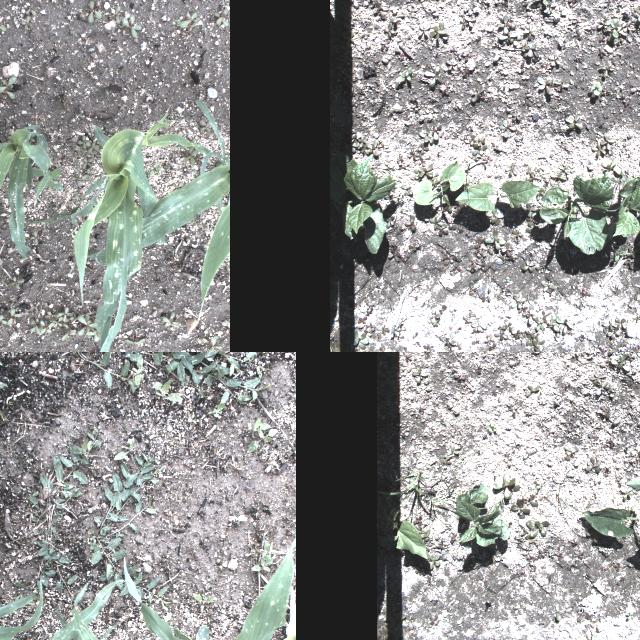crop: (17, 106, 218, 352), (64, 99, 230, 323), (122, 537, 295, 640), (57, 580, 215, 640), (0, 579, 123, 640), (0, 124, 50, 259), (538, 174, 614, 253), (342, 152, 396, 254), (454, 484, 510, 548), (580, 507, 640, 556), (0, 579, 43, 640), (456, 180, 538, 210), (384, 506, 426, 560), (414, 163, 464, 207), (609, 171, 640, 241), (602, 158, 624, 178)
weed: (13, 426, 102, 604), (86, 452, 172, 608), (90, 352, 272, 405), (77, 352, 141, 392), (0, 124, 23, 198), (387, 468, 428, 500), (166, 146, 197, 176), (494, 470, 520, 504), (28, 168, 64, 192), (152, 378, 182, 404), (248, 428, 278, 454), (416, 552, 446, 576), (520, 520, 550, 540), (120, 14, 142, 38), (78, 313, 102, 335), (113, 436, 135, 460), (609, 352, 630, 375), (180, 12, 200, 36), (608, 18, 628, 42), (254, 542, 284, 558), (508, 499, 532, 519), (252, 554, 274, 574), (428, 492, 448, 514), (132, 354, 144, 388), (561, 445, 581, 465), (588, 373, 606, 395), (0, 76, 17, 99), (86, 0, 102, 24), (85, 324, 105, 342), (484, 230, 504, 248), (423, 66, 439, 88), (409, 366, 428, 384), (202, 335, 222, 352), (248, 418, 272, 432), (485, 208, 503, 226), (498, 120, 516, 138), (556, 318, 574, 336), (6, 307, 22, 327), (498, 14, 514, 34), (522, 38, 538, 58), (586, 454, 602, 474), (416, 526, 432, 546), (429, 21, 446, 39), (55, 306, 73, 322), (162, 310, 180, 326), (394, 66, 412, 82), (536, 77, 552, 95), (448, 370, 472, 382), (564, 114, 584, 128), (72, 440, 92, 454), (208, 402, 225, 418), (62, 322, 76, 341), (183, 150, 199, 166), (76, 133, 92, 149), (388, 6, 404, 22), (440, 332, 456, 348), (469, 255, 485, 271), (598, 402, 614, 418), (617, 486, 633, 502), (353, 332, 367, 350), (525, 384, 543, 398), (530, 492, 544, 510), (446, 529, 458, 549), (192, 594, 215, 604), (148, 162, 164, 176), (28, 230, 42, 246), (40, 320, 54, 336), (600, 134, 614, 150), (526, 550, 540, 566), (125, 337, 145, 348), (404, 214, 416, 232), (524, 306, 536, 324), (607, 431, 619, 449), (586, 628, 604, 640), (483, 422, 502, 433), (21, 16, 34, 32), (428, 217, 444, 230), (214, 12, 228, 26), (86, 140, 100, 154), (81, 168, 95, 182), (528, 171, 542, 185), (512, 294, 526, 308), (572, 548, 586, 562), (216, 8, 228, 24), (80, 236, 96, 248), (471, 319, 487, 331), (542, 280, 558, 292), (590, 80, 602, 96), (600, 62, 612, 78), (524, 24, 536, 40), (366, 140, 378, 156), (388, 246, 400, 262), (420, 126, 432, 142), (418, 164, 434, 176), (200, 119, 212, 133), (190, 138, 202, 152), (10, 276, 24, 288), (435, 304, 447, 318), (471, 88, 483, 102), (534, 316, 546, 330), (418, 24, 432, 36), (544, 0, 556, 14), (592, 144, 606, 156), (522, 260, 536, 272), (462, 310, 476, 322), (523, 204, 537, 216), (526, 212, 538, 226), (112, 5, 120, 25), (30, 318, 40, 334), (374, 3, 384, 19), (432, 124, 442, 140), (472, 145, 488, 155), (548, 315, 558, 331), (504, 451, 514, 467), (501, 242, 512, 256), (172, 181, 184, 193), (82, 157, 94, 169), (621, 20, 633, 32), (464, 16, 476, 28), (548, 54, 560, 66), (417, 143, 429, 155), (481, 244, 493, 256), (556, 600, 562, 624), (626, 609, 638, 621), (611, 562, 623, 574), (44, 311, 58, 321), (604, 319, 618, 329), (384, 24, 394, 38), (494, 330, 508, 340), (633, 2, 640, 21), (407, 6, 418, 18), (401, 183, 412, 195), (52, 316, 62, 329), (506, 162, 516, 175), (406, 150, 419, 160), (376, 325, 389, 335), (554, 80, 570, 88), (551, 172, 567, 180), (533, 0, 554, 6), (26, 4, 36, 16), (107, 26, 117, 38), (358, 136, 368, 148), (498, 34, 518, 40), (509, 36, 521, 46), (385, 216, 395, 228), (438, 225, 448, 237), (446, 218, 456, 230), (608, 328, 620, 338), (550, 293, 562, 303), (526, 340, 546, 346), (614, 251, 626, 261), (524, 449, 536, 459), (502, 322, 512, 333), (616, 318, 626, 329), (27, 596, 38, 606), (0, 18, 6, 35), (74, 188, 84, 198), (152, 306, 162, 316), (444, 254, 454, 264), (469, 282, 479, 292), (626, 247, 636, 257), (187, 415, 197, 425), (531, 338, 538, 352), (199, 224, 211, 232), (598, 20, 610, 28), (460, 18, 468, 30), (362, 328, 373, 336), (72, 175, 82, 183), (69, 312, 79, 320), (477, 136, 485, 146), (512, 230, 522, 238), (396, 325, 406, 333), (500, 256, 510, 264), (493, 324, 503, 332), (526, 331, 536, 339), (559, 166, 569, 174), (0, 314, 7, 325), (487, 284, 491, 302), (469, 154, 481, 160), (358, 316, 367, 324), (538, 188, 544, 200), (414, 169, 421, 179), (469, 135, 476, 145), (76, 166, 82, 177), (522, 40, 528, 51), (44, 468, 50, 479), (186, 28, 194, 36), (361, 146, 369, 154), (432, 319, 440, 327), (172, 20, 182, 26), (104, 85, 110, 95), (117, 104, 127, 110), (166, 123, 172, 133), (75, 146, 85, 152), (192, 221, 202, 227), (138, 324, 144, 334), (514, 330, 520, 340), (394, 333, 404, 339), (428, 314, 434, 324), (574, 336, 584, 342), (558, 322, 564, 332), (0, 313, 3, 330), (74, 150, 80, 158), (226, 322, 230, 334), (398, 154, 402, 166), (215, 300, 222, 306), (92, 298, 102, 302), (217, 262, 227, 266), (402, 347, 410, 352), (526, 229, 536, 233), (129, 335, 135, 341), (504, 277, 510, 283), (0, 239, 3, 249), (58, 358, 62, 364), (92, 152, 95, 158), (180, 114, 184, 118)
